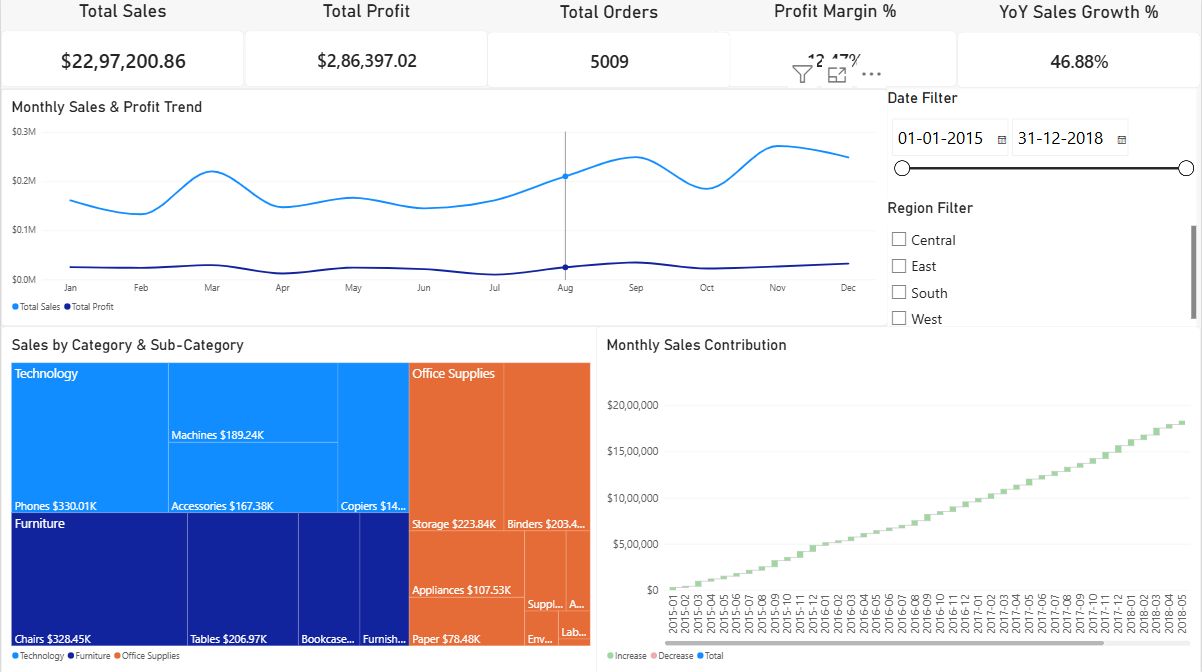

Layout of this report page (visuals, bound fields, positions):
{"tool":"powerbi","page":{"name":"Executive Overview","canvas":[1920,1080],"ordinal":0},"visuals":[{"type":"cardVisual","title":"Total Sales","fields":{"Data":["Fact Orders.Total Sales"]},"box":[0,0,389.6,139.6],"z":0},{"type":"cardVisual","title":"Total Profit","fields":{"Data":["Fact Orders.Total Profit"]},"box":[389.1,0,389.6,139.6],"z":1000},{"type":"cardVisual","title":"Profit Margin %","fields":{"Data":["Fact Orders.Profit Margin %"]},"box":[1140.7,0,389.6,139.6],"z":2000},{"type":"cardVisual","title":"YoY Sales Growth %","fields":{"Data":["Fact Orders.YoY Sales Growth %"]},"box":[1529.2,2.1,389.6,139.6],"z":3000},{"type":"lineChart","title":"Monthly Sales & Profit Trend","fields":{"Category":["Dim Date.Month"],"Y":["Fact Orders.Total Sales","Fact Orders.Total Profit"]},"box":[0,142,1418,380],"z":4000},{"type":"treemap","title":"Sales by Category & Sub-Category","fields":{"Details":["Dim Product.Sub-Category"],"Group":["Dim Product.Category"],"Values":["Fact Orders.Total Sales"]},"box":[0,522,960,558],"z":5000},{"type":"slicer","title":"Date Filter","fields":{"Values":["Dim Date.Date"]},"box":[1418,142,494,176],"z":6000},{"type":"waterfallChart","title":"Monthly Sales Contribution","fields":{"Category":["Dim Date.Year-Month"],"Y":["Fact Orders.Total Sales"]},"box":[952,522,968,558],"z":7000},{"type":"cardVisual","title":"Total Orders","fields":{"Data":["Fact Orders.Total Orders"]},"box":[778.2,1.8,389.6,139.6],"z":9000},{"type":"slicer","title":"Region Filter","fields":{"Values":["Dim Customer.Region"]},"box":[1418,318,494,204],"z":10000},{"type":"textbox","box":[6,290,150,190],"z":11002}]}

Visuals, with their boxes in screenshot pixels (x1, y1, x2, y2), scaled from the page's 1920x1080 canvas onto the 1202x672 screenshot:
"Total Sales" cardVisual: x1=0, y1=0, x2=244, y2=87
"Total Profit" cardVisual: x1=244, y1=0, x2=487, y2=87
"Profit Margin %" cardVisual: x1=714, y1=0, x2=958, y2=87
"YoY Sales Growth %" cardVisual: x1=957, y1=1, x2=1201, y2=88
"Monthly Sales & Profit Trend" lineChart: x1=0, y1=88, x2=888, y2=325
"Sales by Category & Sub-Category" treemap: x1=0, y1=325, x2=601, y2=671
"Date Filter" slicer: x1=888, y1=88, x2=1197, y2=198
"Monthly Sales Contribution" waterfallChart: x1=596, y1=325, x2=1201, y2=671
"Total Orders" cardVisual: x1=487, y1=1, x2=731, y2=88
"Region Filter" slicer: x1=888, y1=198, x2=1197, y2=325
textbox: x1=4, y1=180, x2=98, y2=299
